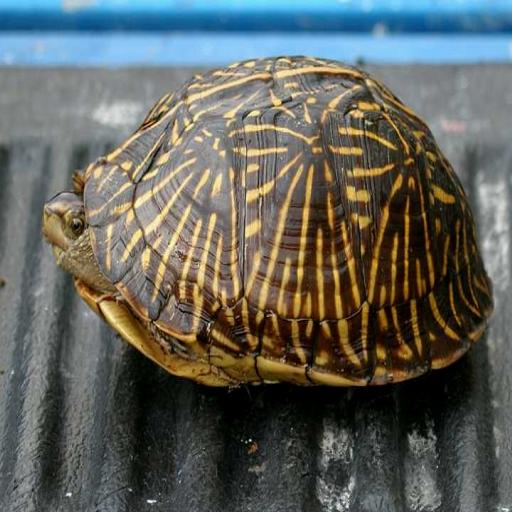turtle: (40, 54, 502, 394)
